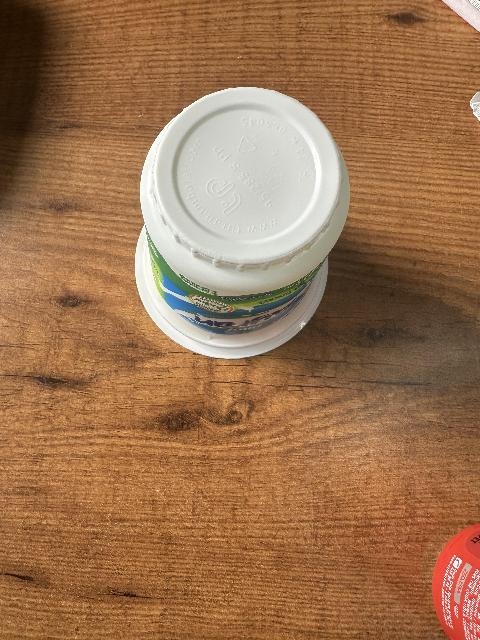Metal: (433, 521, 480, 640)
Plastik: (132, 83, 343, 365)
